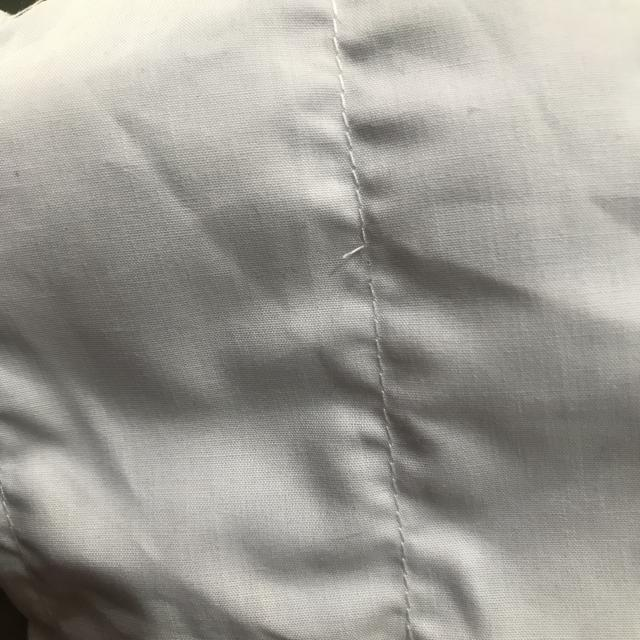broken: (325, 240, 412, 294)
good: (359, 324, 418, 516), (332, 91, 374, 220)
